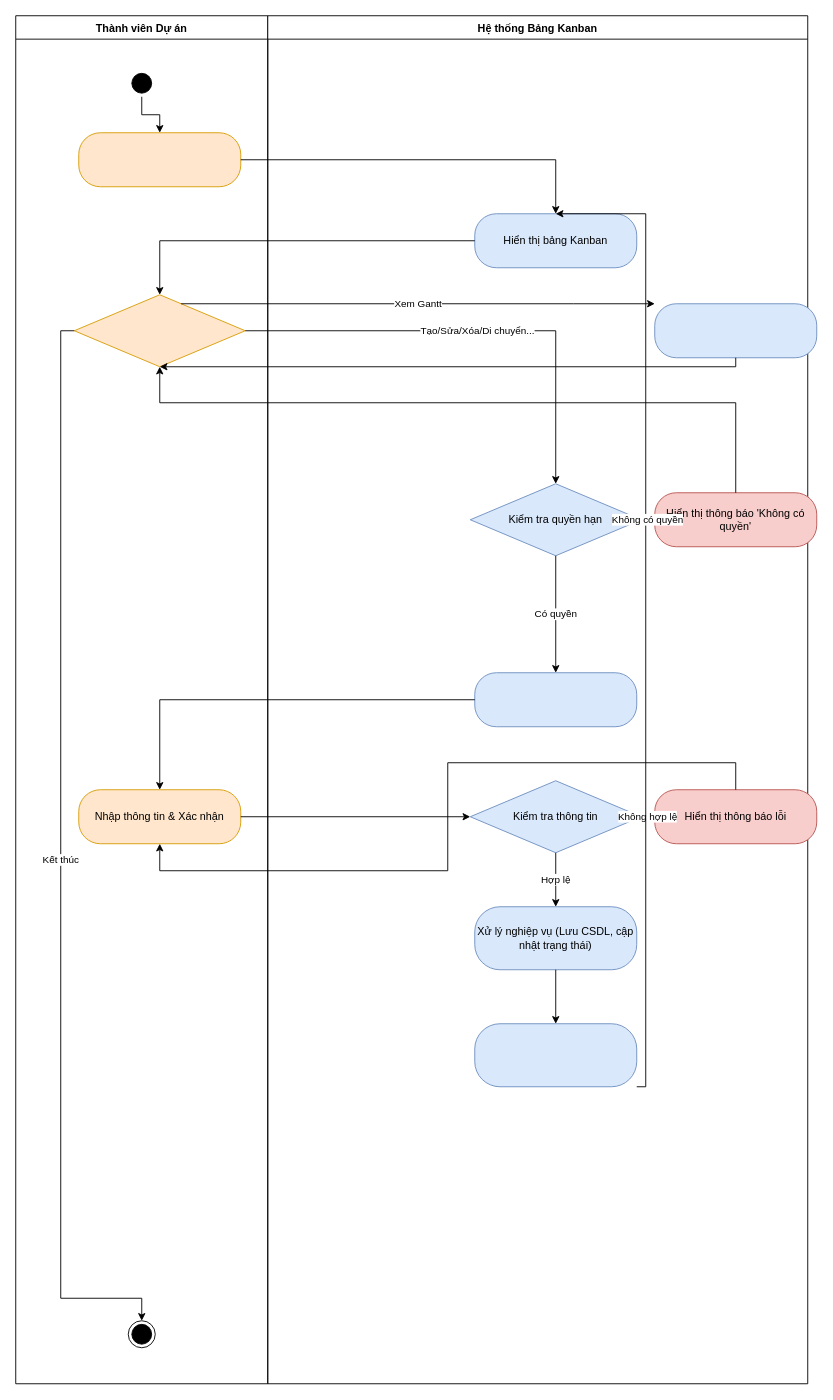
Some shapes in this 833 by 1400 pixel diagram are drawn without their labels. The box of each missing label's shape, as (x1, y1, x2, y2) in pixels:
Chọn một thao tác: (73, 294, 245, 367)
Hiển thị chế độ xem Gantt: (654, 303, 817, 358)
Hiển thị form/giao diện tương ứng: (474, 672, 637, 727)
Làm mới giao diện & Hiển thị kết quả: (474, 1023, 637, 1087)
Truy cập bảng Kanban của dự án: (78, 132, 241, 187)
